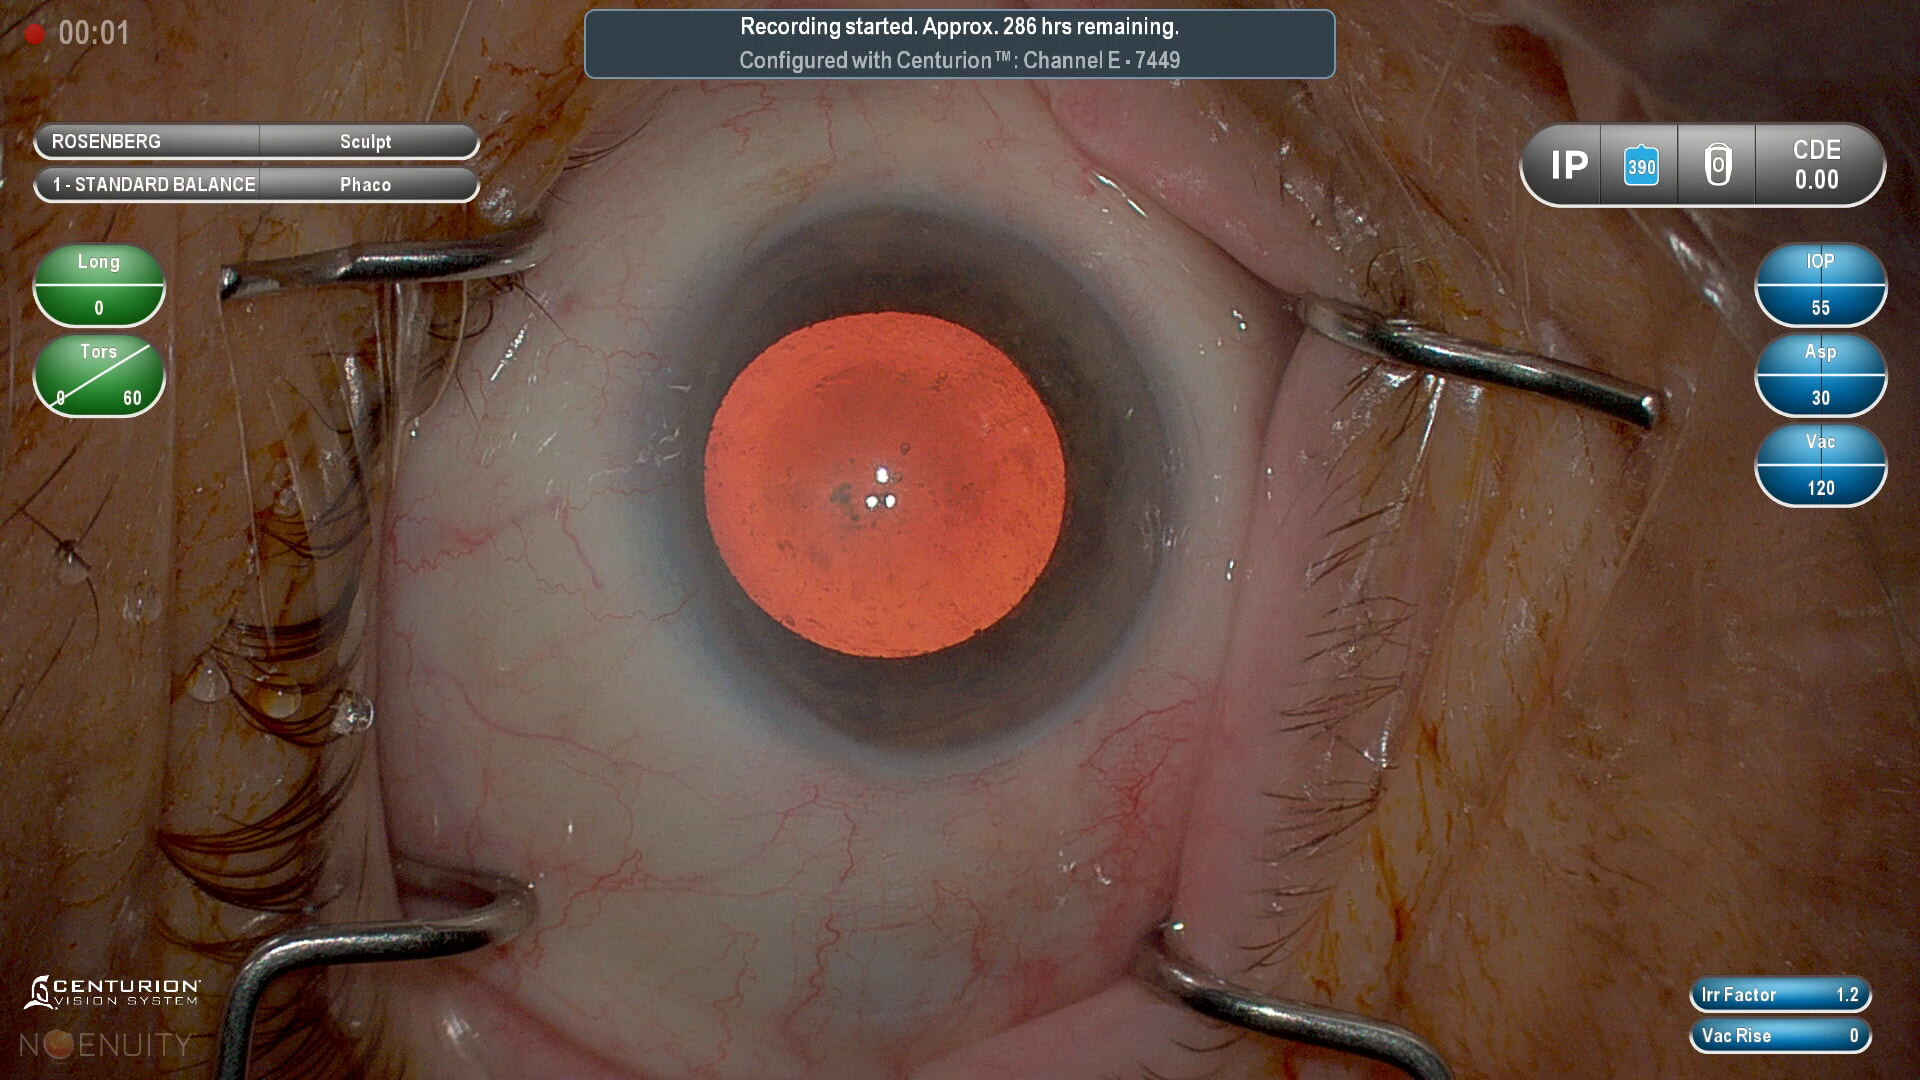iris: (679, 216, 1159, 731)
pupil: (703, 311, 1076, 655)
